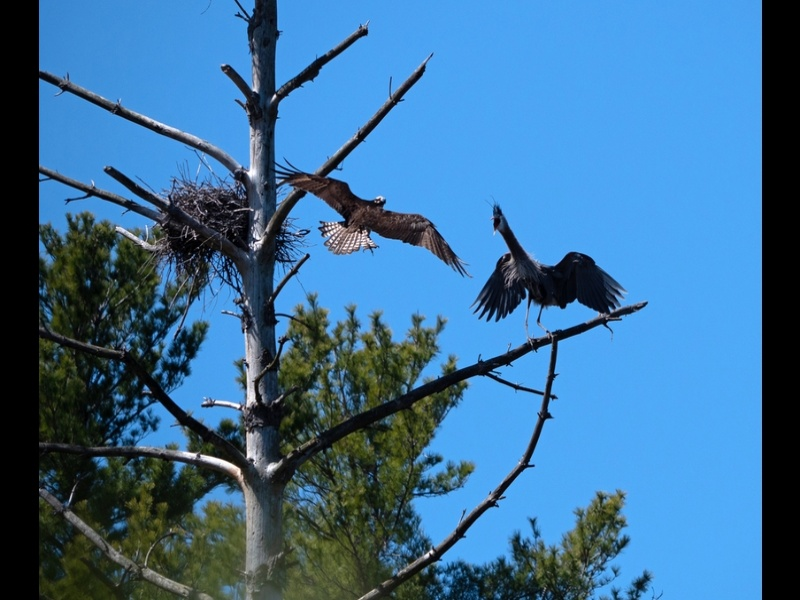heron: (281, 161, 469, 285), (470, 202, 623, 353)
